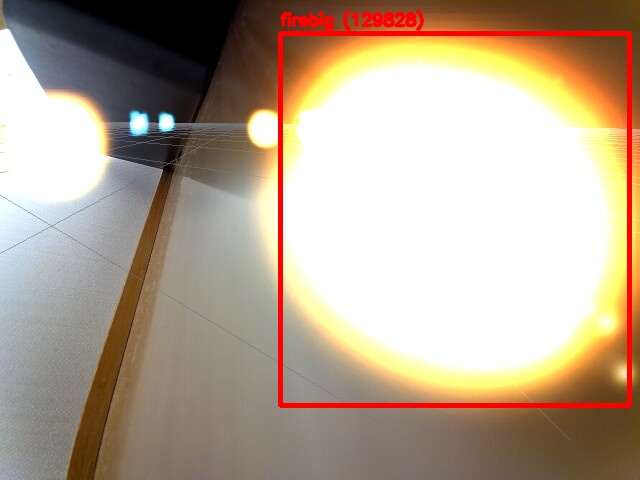firebig: (280, 33, 629, 405)
